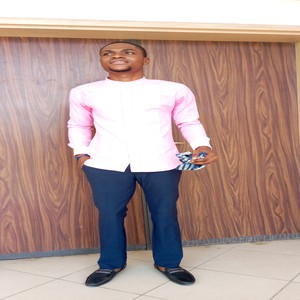Fulokoja_male_student: (73, 44, 184, 271)
